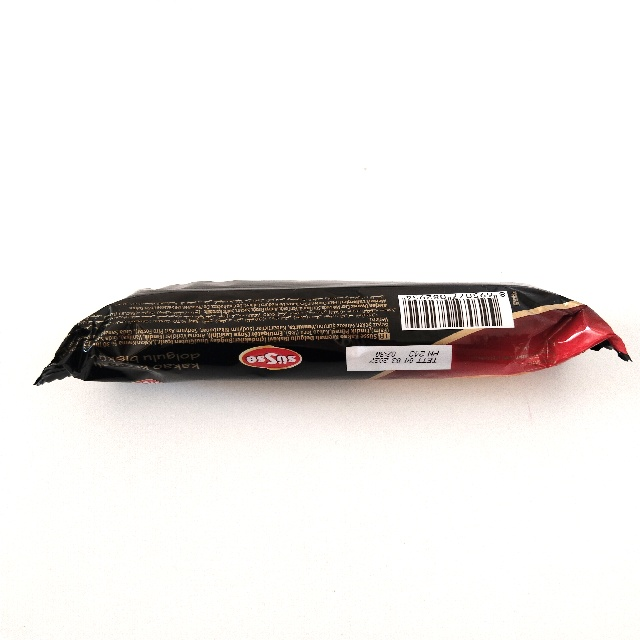susse_biskuvi: (27, 280, 630, 384)
